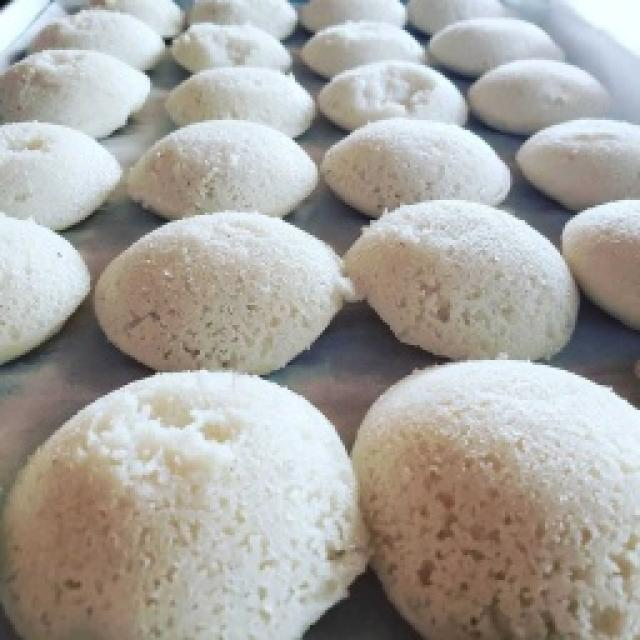idli: (0, 373, 367, 639), (353, 360, 639, 639), (95, 213, 352, 374), (345, 200, 579, 359), (320, 118, 509, 217), (128, 120, 317, 219), (0, 215, 89, 364), (0, 50, 149, 137), (0, 123, 122, 229), (515, 118, 639, 209), (468, 60, 609, 134), (165, 68, 314, 137), (318, 60, 467, 129), (563, 200, 639, 329), (30, 8, 164, 69), (428, 18, 564, 77), (300, 20, 424, 77), (170, 23, 292, 72)
